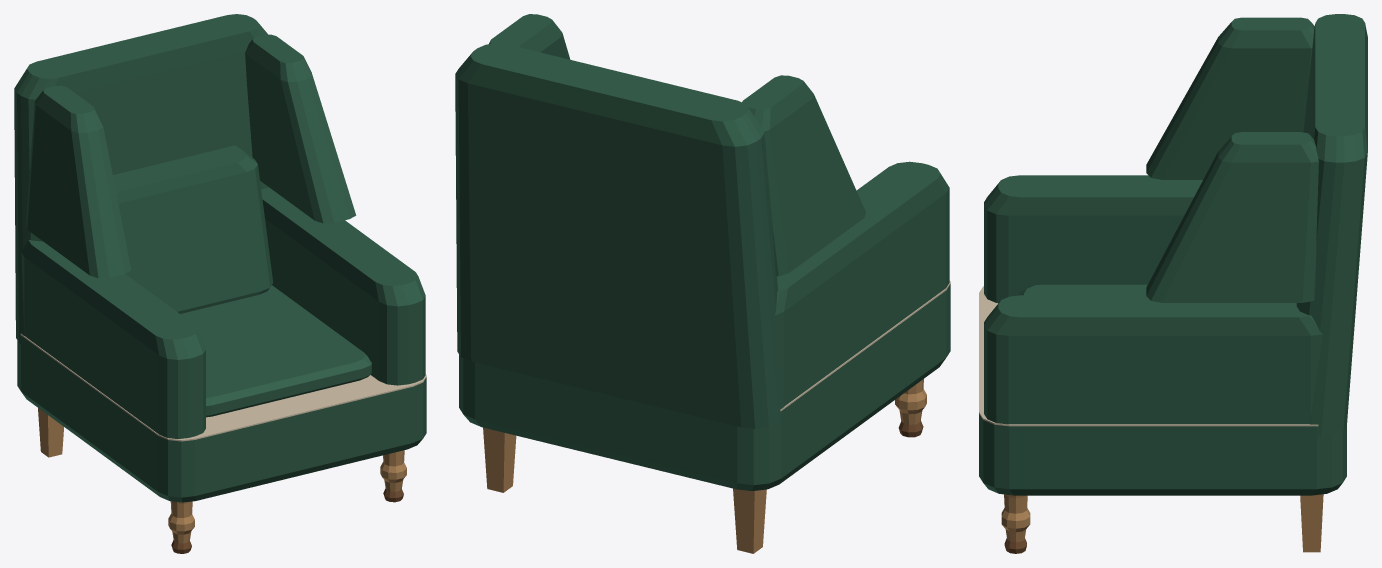
The model's file is FN_Chair_Wingback.obj.
3 views of the same model, side by side, from view 1: azimuth 30°, elevation 25°; view 2: azimuth 150°, elevation 25°; view 3: azimuth 270°, elevation 25° (orthographic). The views are drawn at different scales.
Visible parts, largest first — view 1: FN_Chair_Wingback; view 2: FN_Chair_Wingback; view 3: FN_Chair_Wingback.
Part boxes in pixels (bbox=[...]): FN_Chair_Wingback: bbox=[14, 14, 426, 553]; FN_Chair_Wingback: bbox=[455, 14, 950, 553]; FN_Chair_Wingback: bbox=[979, 14, 1367, 553].
Bounding box in the file's own units: 0.82 × 1.1 × 0.93.
Materials: 1 (1 with a texture image).
